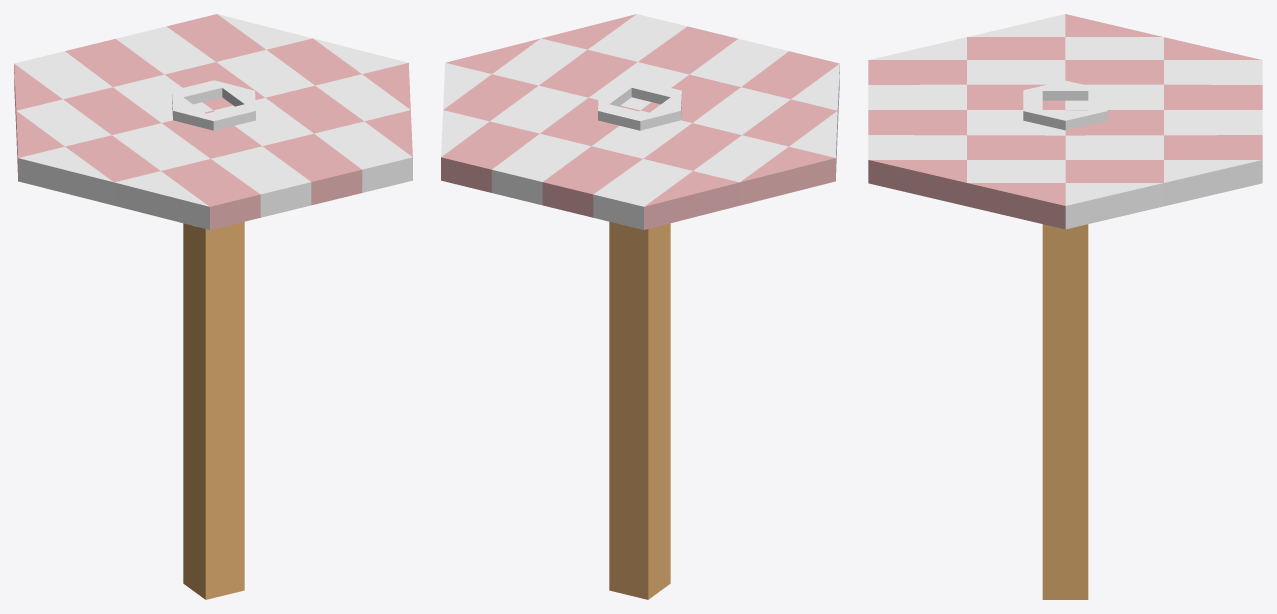
File: plataforma.glb
3 views of the same model, side by side, from view 1: azimuth 30°, elevation 25°; view 2: azimuth 150°, elevation 25°; view 3: azimuth 270°, elevation 25° (orthographic).
Visible parts, largest first — view 1: Cube.001; view 2: Cube.001; view 3: Cube.001.
Part boxes in pixels (<box>): Cube.001: <box>14,14,412,599</box>; Cube.001: <box>441,14,839,599</box>; Cube.001: <box>868,14,1262,599</box>.
Size of the model in its own units: 1.69 by 2.01 by 1.47.
